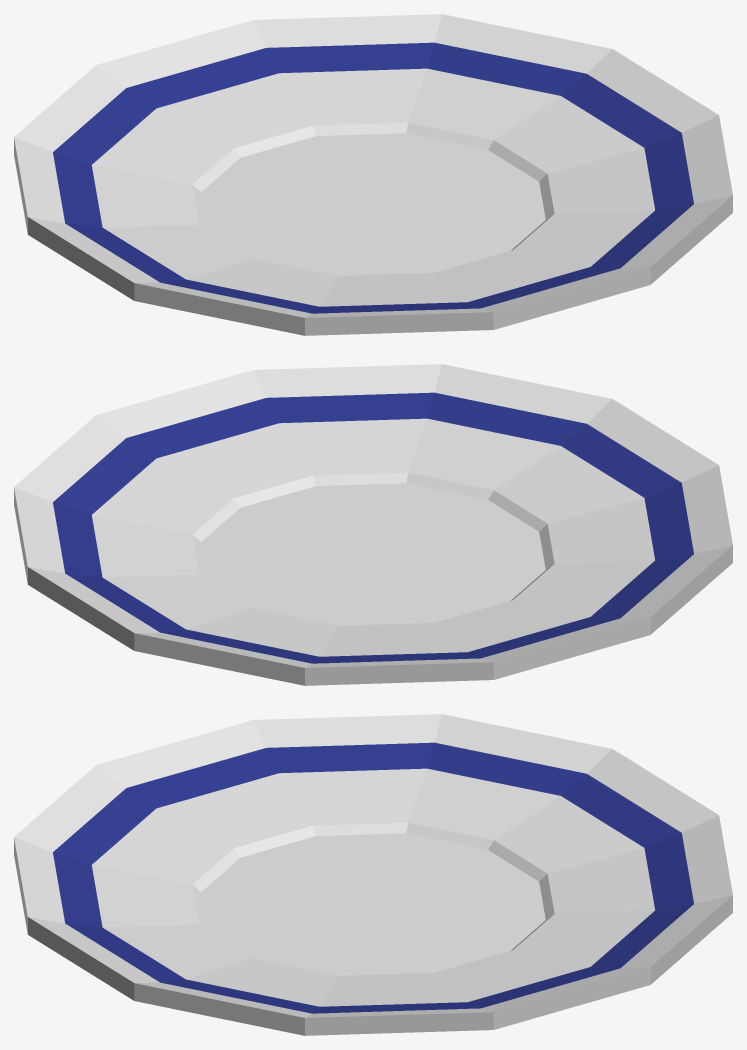
Rendered from C_Plate_Big_3.fbx.
The picture shows the model from 3 angles, top to bottom: view 1: azimuth 30°, elevation 25°; view 2: azimuth 150°, elevation 25°; view 3: azimuth 270°, elevation 25°; orthographic projection.
Visible parts, largest first — view 1: C_Plate_Big_3; view 2: C_Plate_Big_3; view 3: C_Plate_Big_3.
Boxes of the visible parts, box(x1,y1,x2,y2) form: C_Plate_Big_3: box(14, 14, 732, 335); C_Plate_Big_3: box(14, 364, 732, 685); C_Plate_Big_3: box(14, 714, 732, 1035).
Bounding box in the file's own units: 146 × 146 × 13.95.
